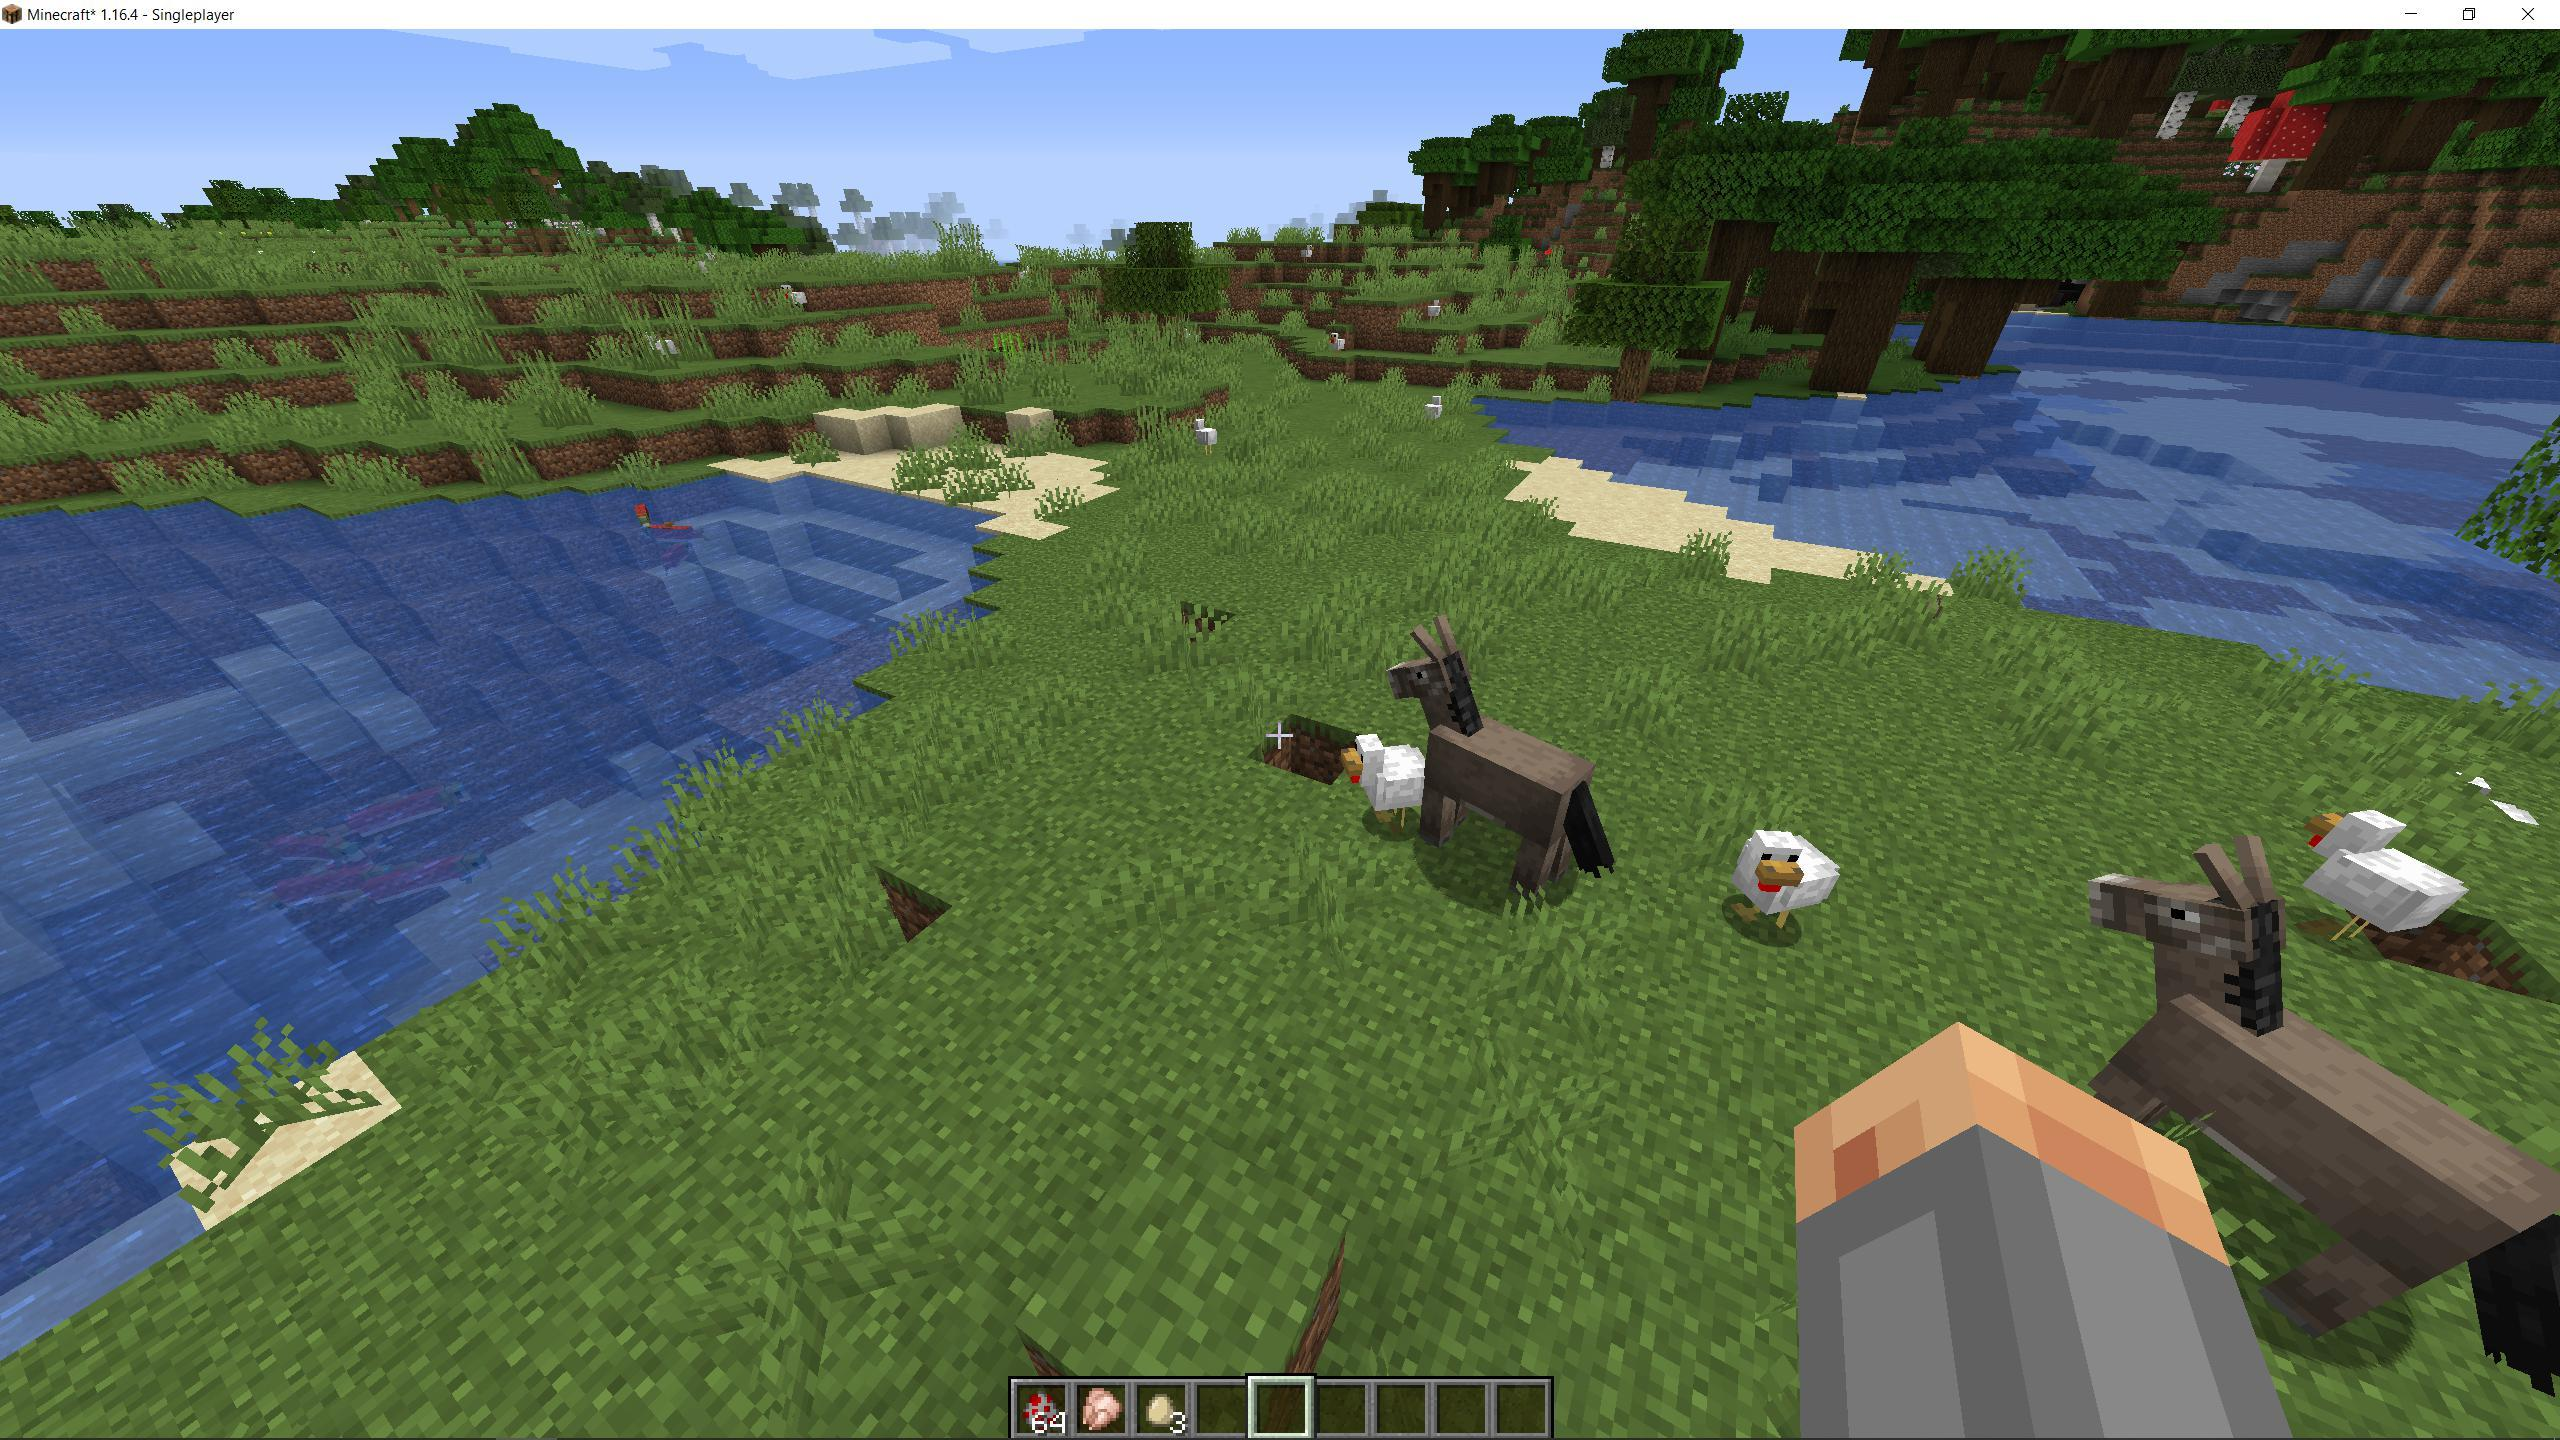chicken: (1211, 642, 1284, 728)
